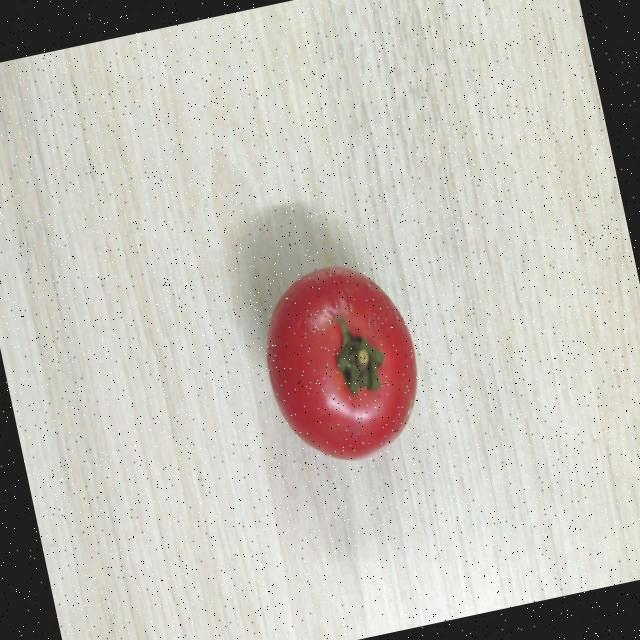Tomato: (245, 248, 438, 478)
